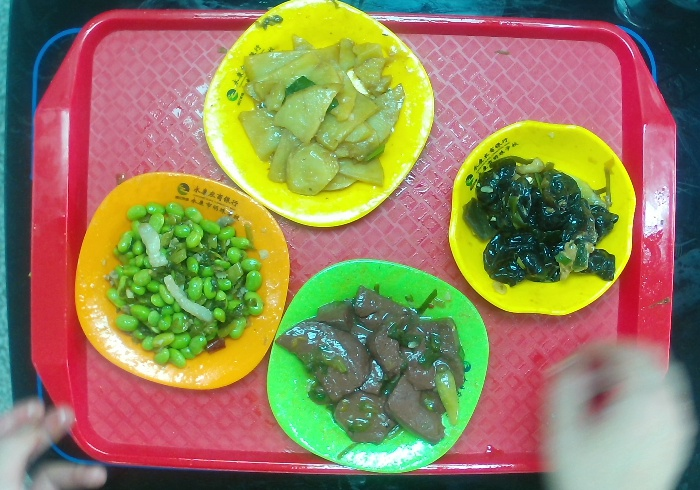YKMZ-Huang_Se_Ao_Bian_Wan: (447, 120, 639, 317)
YKMZ-Huang_Se_Fang_Die: (199, 1, 438, 232)
YKMZ-Ju_Se_Fang_Die: (74, 169, 293, 392)
YKMZ-Lv_Se_Fang_Die: (262, 256, 492, 477)
